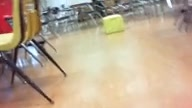cube: (102, 14, 123, 35)
